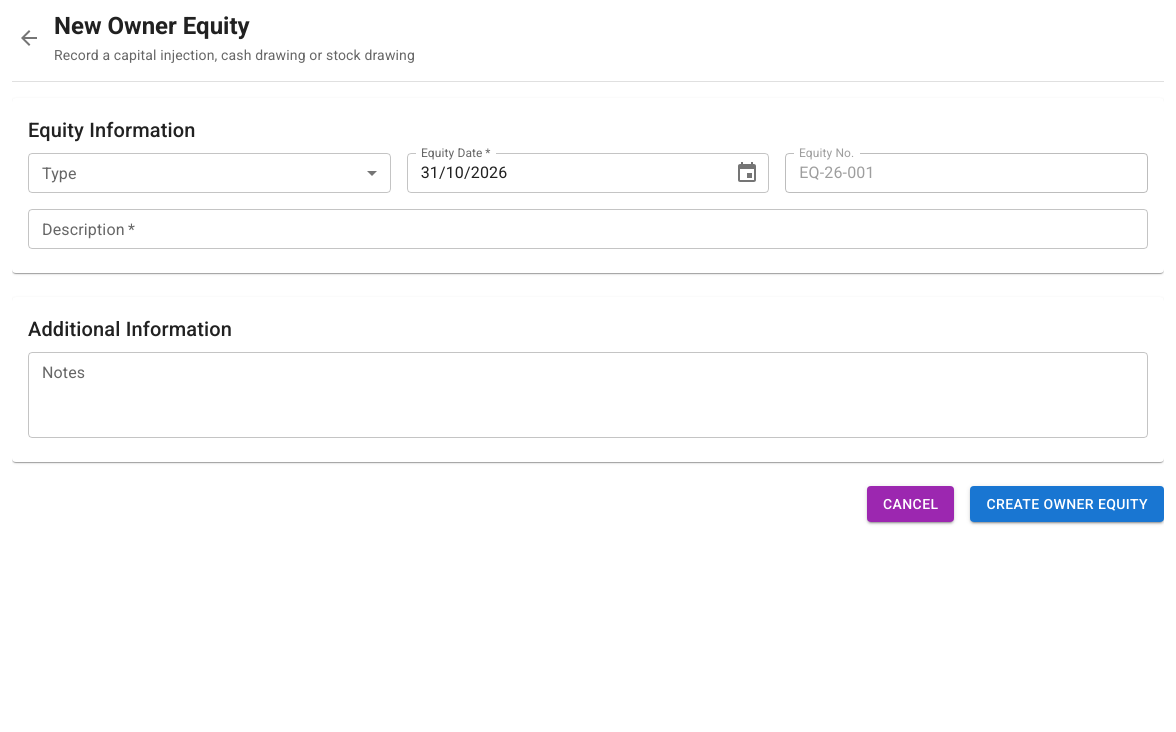
Test: OwnerEquityFormPage › renders Type as a standard MUI select offering exactly the three equity types
Press the mouse on the dropdown named "Type" at (209, 173), box [28,153,391,193]
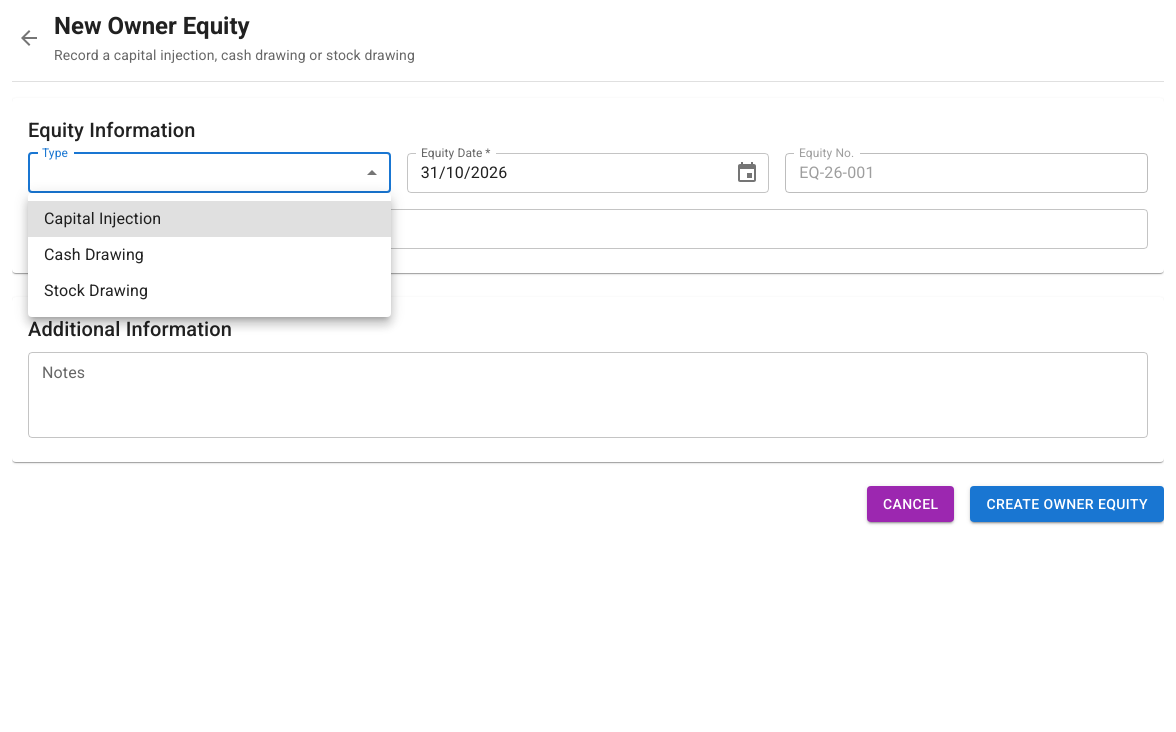
Now the options read "Capital Injection", "Cash Drawing", "Stock Drawing", in this order, box [28,201,391,237]; [44,245,144,264]; [44,281,148,300]
